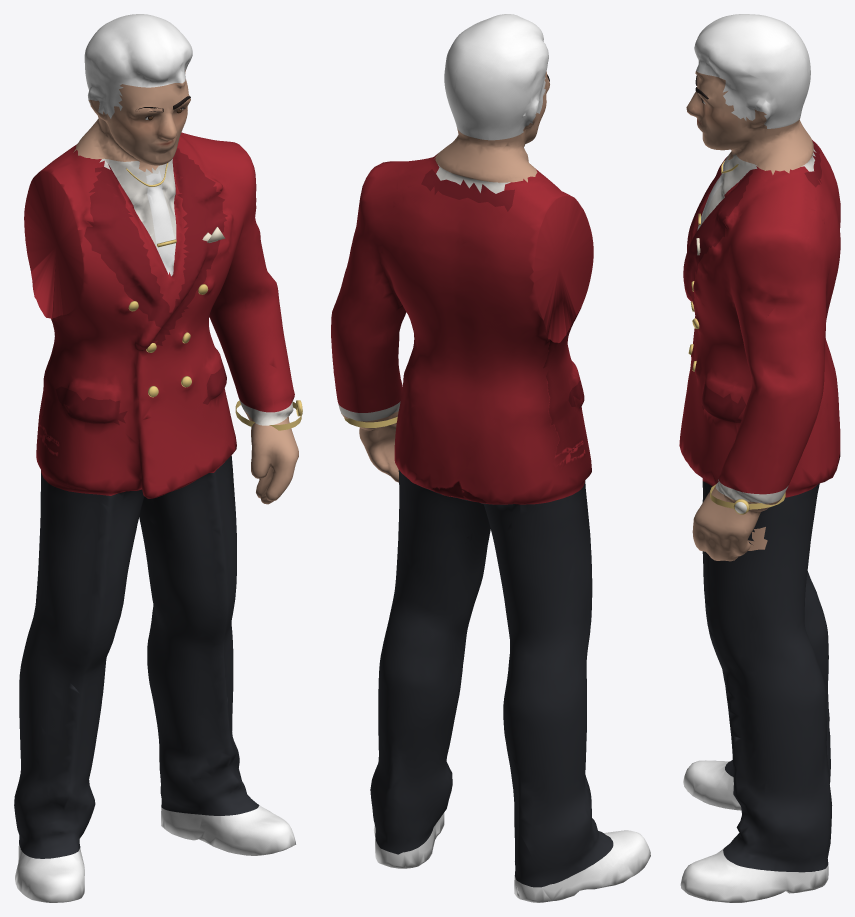
Rendered from char_partner_90s_body.glb.
3 views of the same model, side by side, from view 1: azimuth 30°, elevation 25°; view 2: azimuth 150°, elevation 25°; view 3: azimuth 270°, elevation 25° (orthographic).
Parts seen in each view (by area): view 1: HeroBody; view 2: HeroBody; view 3: HeroBody.
Part boxes in pixels (left/top/right/bottom): HeroBody: left=14, top=14, right=302, bottom=902; HeroBody: left=331, top=14, right=650, bottom=902; HeroBody: left=679, top=14, right=840, bottom=902.
Bounding box in the file's own units: 0.6175 × 1.75 × 0.3077.
Materials: 19 (9 with a texture image).
